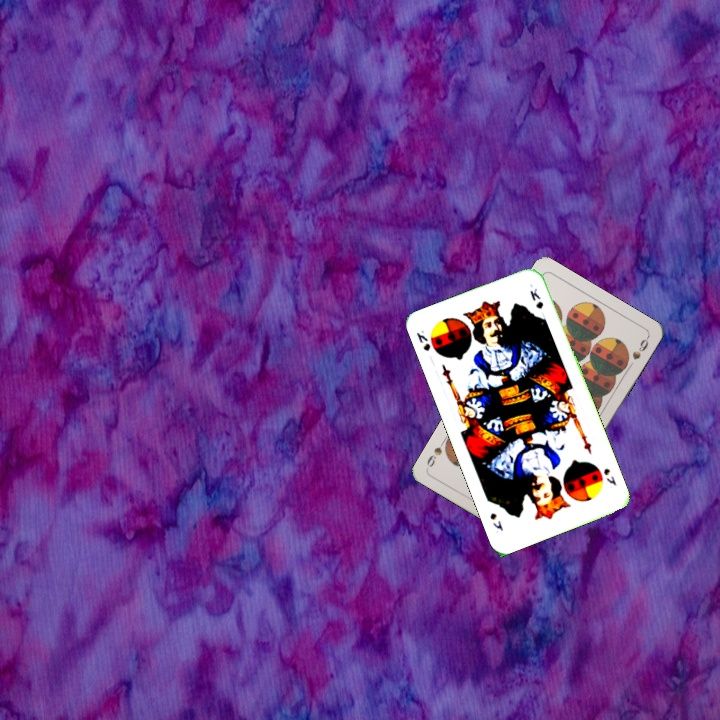SK: (412, 326, 433, 354), (599, 464, 619, 488)
